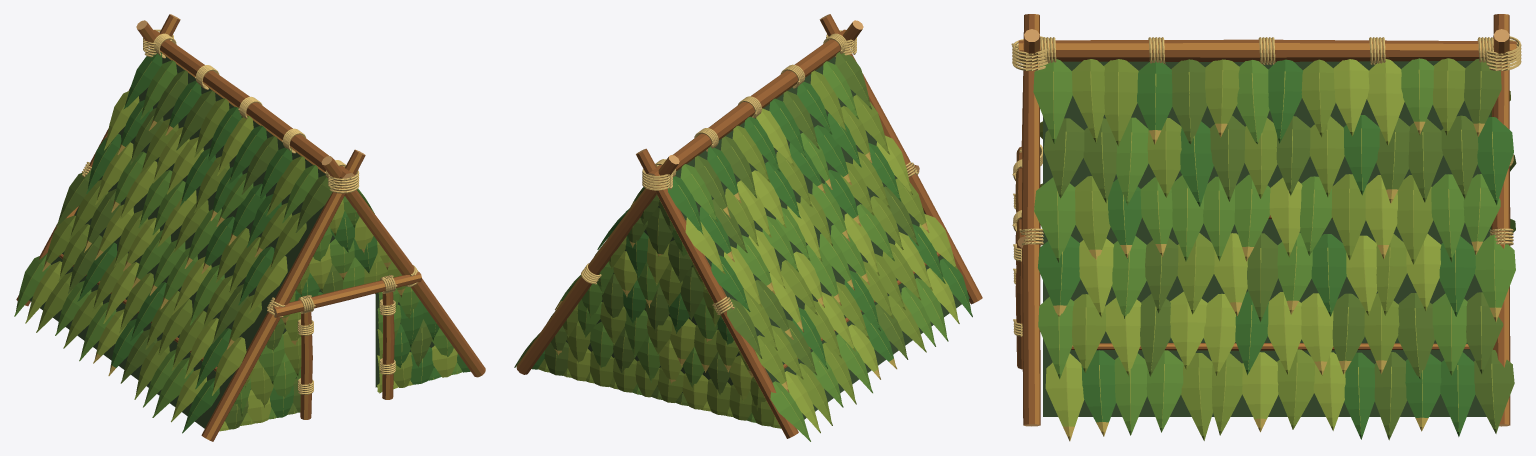
File: oca_nivel_1.glb
The picture shows the model from 3 angles, left to right: view 1: azimuth 30°, elevation 25°; view 2: azimuth 150°, elevation 25°; view 3: azimuth 270°, elevation 25°; orthographic projection. The views are drawn at different scales.
Parts seen in each view (by area): view 1: Oca_FolhaOliva, Oca_FolhaJade, Oca_FolhaVerde, Oca_FolhaLima, Oca_Madeira, Oca_FolhaMusgo, Oca_Forro, Oca_MadeiraClara, Oca_Nervuras, Oca_Fibras, Oca_FolhaSeca; view 2: Oca_FolhaOliva, Oca_FolhaVerde, Oca_FolhaLima, Oca_FolhaJade, Oca_FolhaMusgo, Oca_Madeira, Oca_Forro, Oca_Nervuras, Oca_Fibras, Oca_MadeiraClara, Oca_FolhaSeca; view 3: Oca_FolhaVerde, Oca_FolhaOliva, Oca_FolhaMusgo, Oca_FolhaLima, Oca_FolhaJade, Oca_Madeira, Oca_Forro, Oca_MadeiraClara, Oca_Nervuras, Oca_Fibras, Oca_FolhaSeca.
Boxes of the visible parts, x1,y1,x2,y2 form: Oca_FolhaOliva: (36, 98, 412, 425); Oca_FolhaJade: (77, 52, 470, 433); Oca_FolhaVerde: (14, 60, 462, 419); Oca_FolhaLima: (25, 91, 457, 431); Oca_Madeira: (16, 14, 485, 441); Oca_FolhaMusgo: (56, 70, 432, 429); Oca_Forro: (29, 56, 434, 428); Oca_MadeiraClara: (59, 17, 481, 440); Oca_Nervuras: (21, 61, 470, 429); Oca_Fibras: (82, 29, 418, 394); Oca_FolhaSeca: (42, 120, 404, 375); Oca_FolhaOliva: (538, 70, 926, 428); Oca_FolhaVerde: (559, 61, 948, 441); Oca_FolhaLima: (567, 108, 959, 433); Oca_FolhaJade: (531, 82, 972, 369); Oca_FolhaMusgo: (514, 52, 918, 405); Oca_Madeira: (517, 14, 982, 438); Oca_Forro: (566, 56, 969, 419); Oca_Nervuras: (545, 61, 969, 432); Oca_Fibras: (581, 30, 918, 314); Oca_MadeiraClara: (516, 21, 970, 437); Oca_FolhaSeca: (554, 152, 929, 392); Oca_FolhaVerde: (1033, 58, 1515, 435); Oca_FolhaOliva: (1072, 58, 1465, 440); Oca_FolhaMusgo: (1043, 58, 1516, 440); Oca_FolhaLima: (1040, 59, 1510, 430); Oca_FolhaJade: (1038, 59, 1513, 439); Oca_Madeira: (1015, 14, 1516, 424); Oca_Forro: (1043, 61, 1490, 416); Oca_MadeiraClara: (1015, 14, 1516, 424); Oca_Nervuras: (1053, 69, 1496, 435); Oca_Fibras: (1011, 36, 1521, 336); Oca_FolhaSeca: (1053, 121, 1501, 441).
Bounding box in the file's own units: 5.56 × 4.6 × 6.47.
